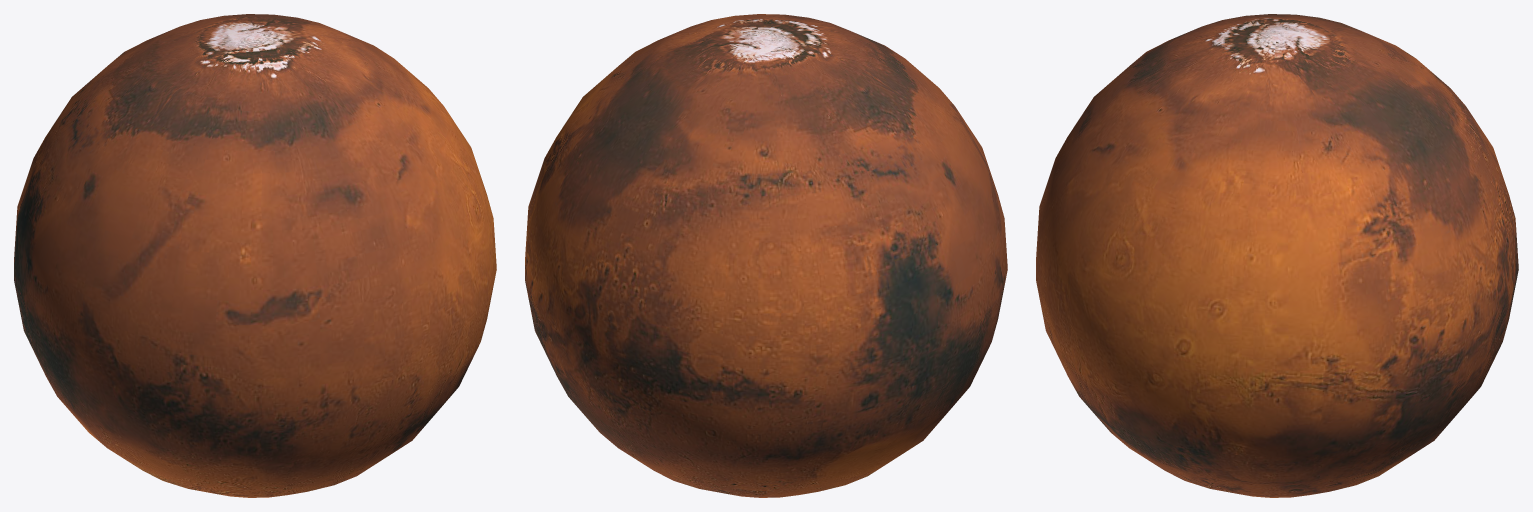
File: mars.FBX
The picture shows the model from 3 angles, left to right: view 1: azimuth 30°, elevation 25°; view 2: azimuth 150°, elevation 25°; view 3: azimuth 270°, elevation 25°; orthographic projection.
Visible parts, largest first — view 1: Sun; view 2: Sun; view 3: Sun.
Boxes of the visible parts, bbox=[...] form: Sun: bbox=[14, 14, 496, 497]; Sun: bbox=[525, 14, 1007, 497]; Sun: bbox=[1036, 14, 1518, 497].
Size of the model in its own units: 11.07 by 11.11 by 11.05.
1 material, 1 textured.
